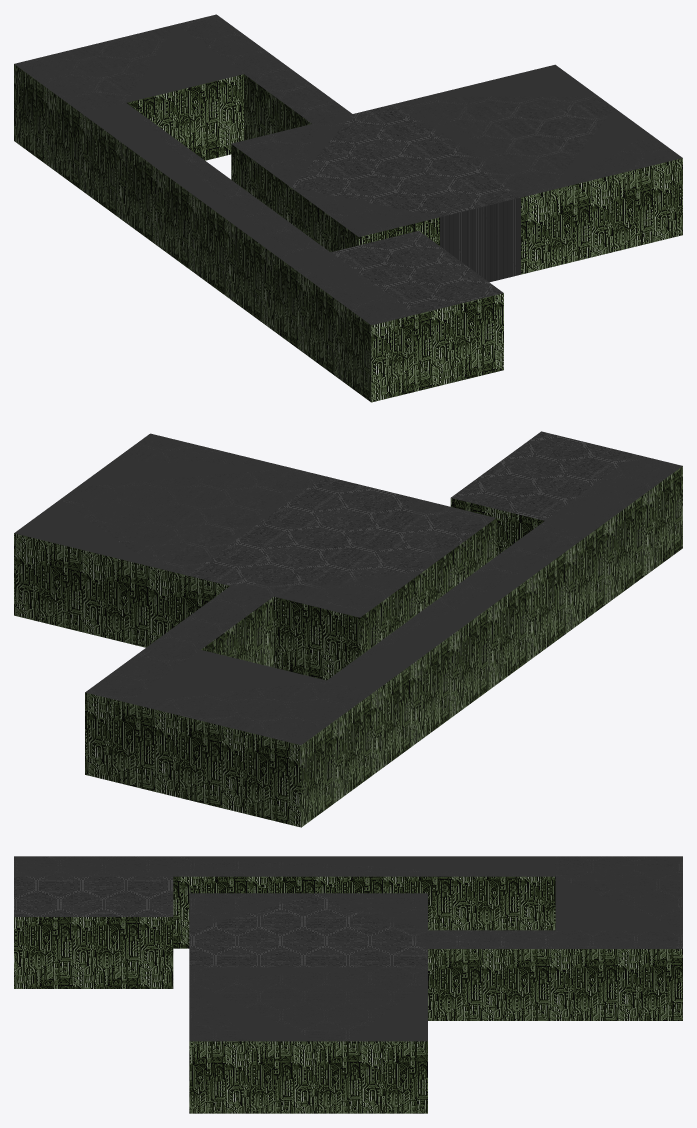
The model's file is DoomCloneTestRoom.glb.
The picture shows the model from 3 angles, top to bottom: view 1: azimuth 30°, elevation 25°; view 2: azimuth 150°, elevation 25°; view 3: azimuth 270°, elevation 25°; orthographic projection. The views are drawn at different scales.
Visible parts, largest first — view 1: Plane; view 2: Plane; view 3: Plane.
Boxes of the visible parts, x1,y1,x2,y2 form: Plane: (14,14,682,402); Plane: (14,431,682,827); Plane: (14,856,682,1113).
Size of the model in its own units: 27.5 by 5 by 42.
Materials: 2 (2 with a texture image).
